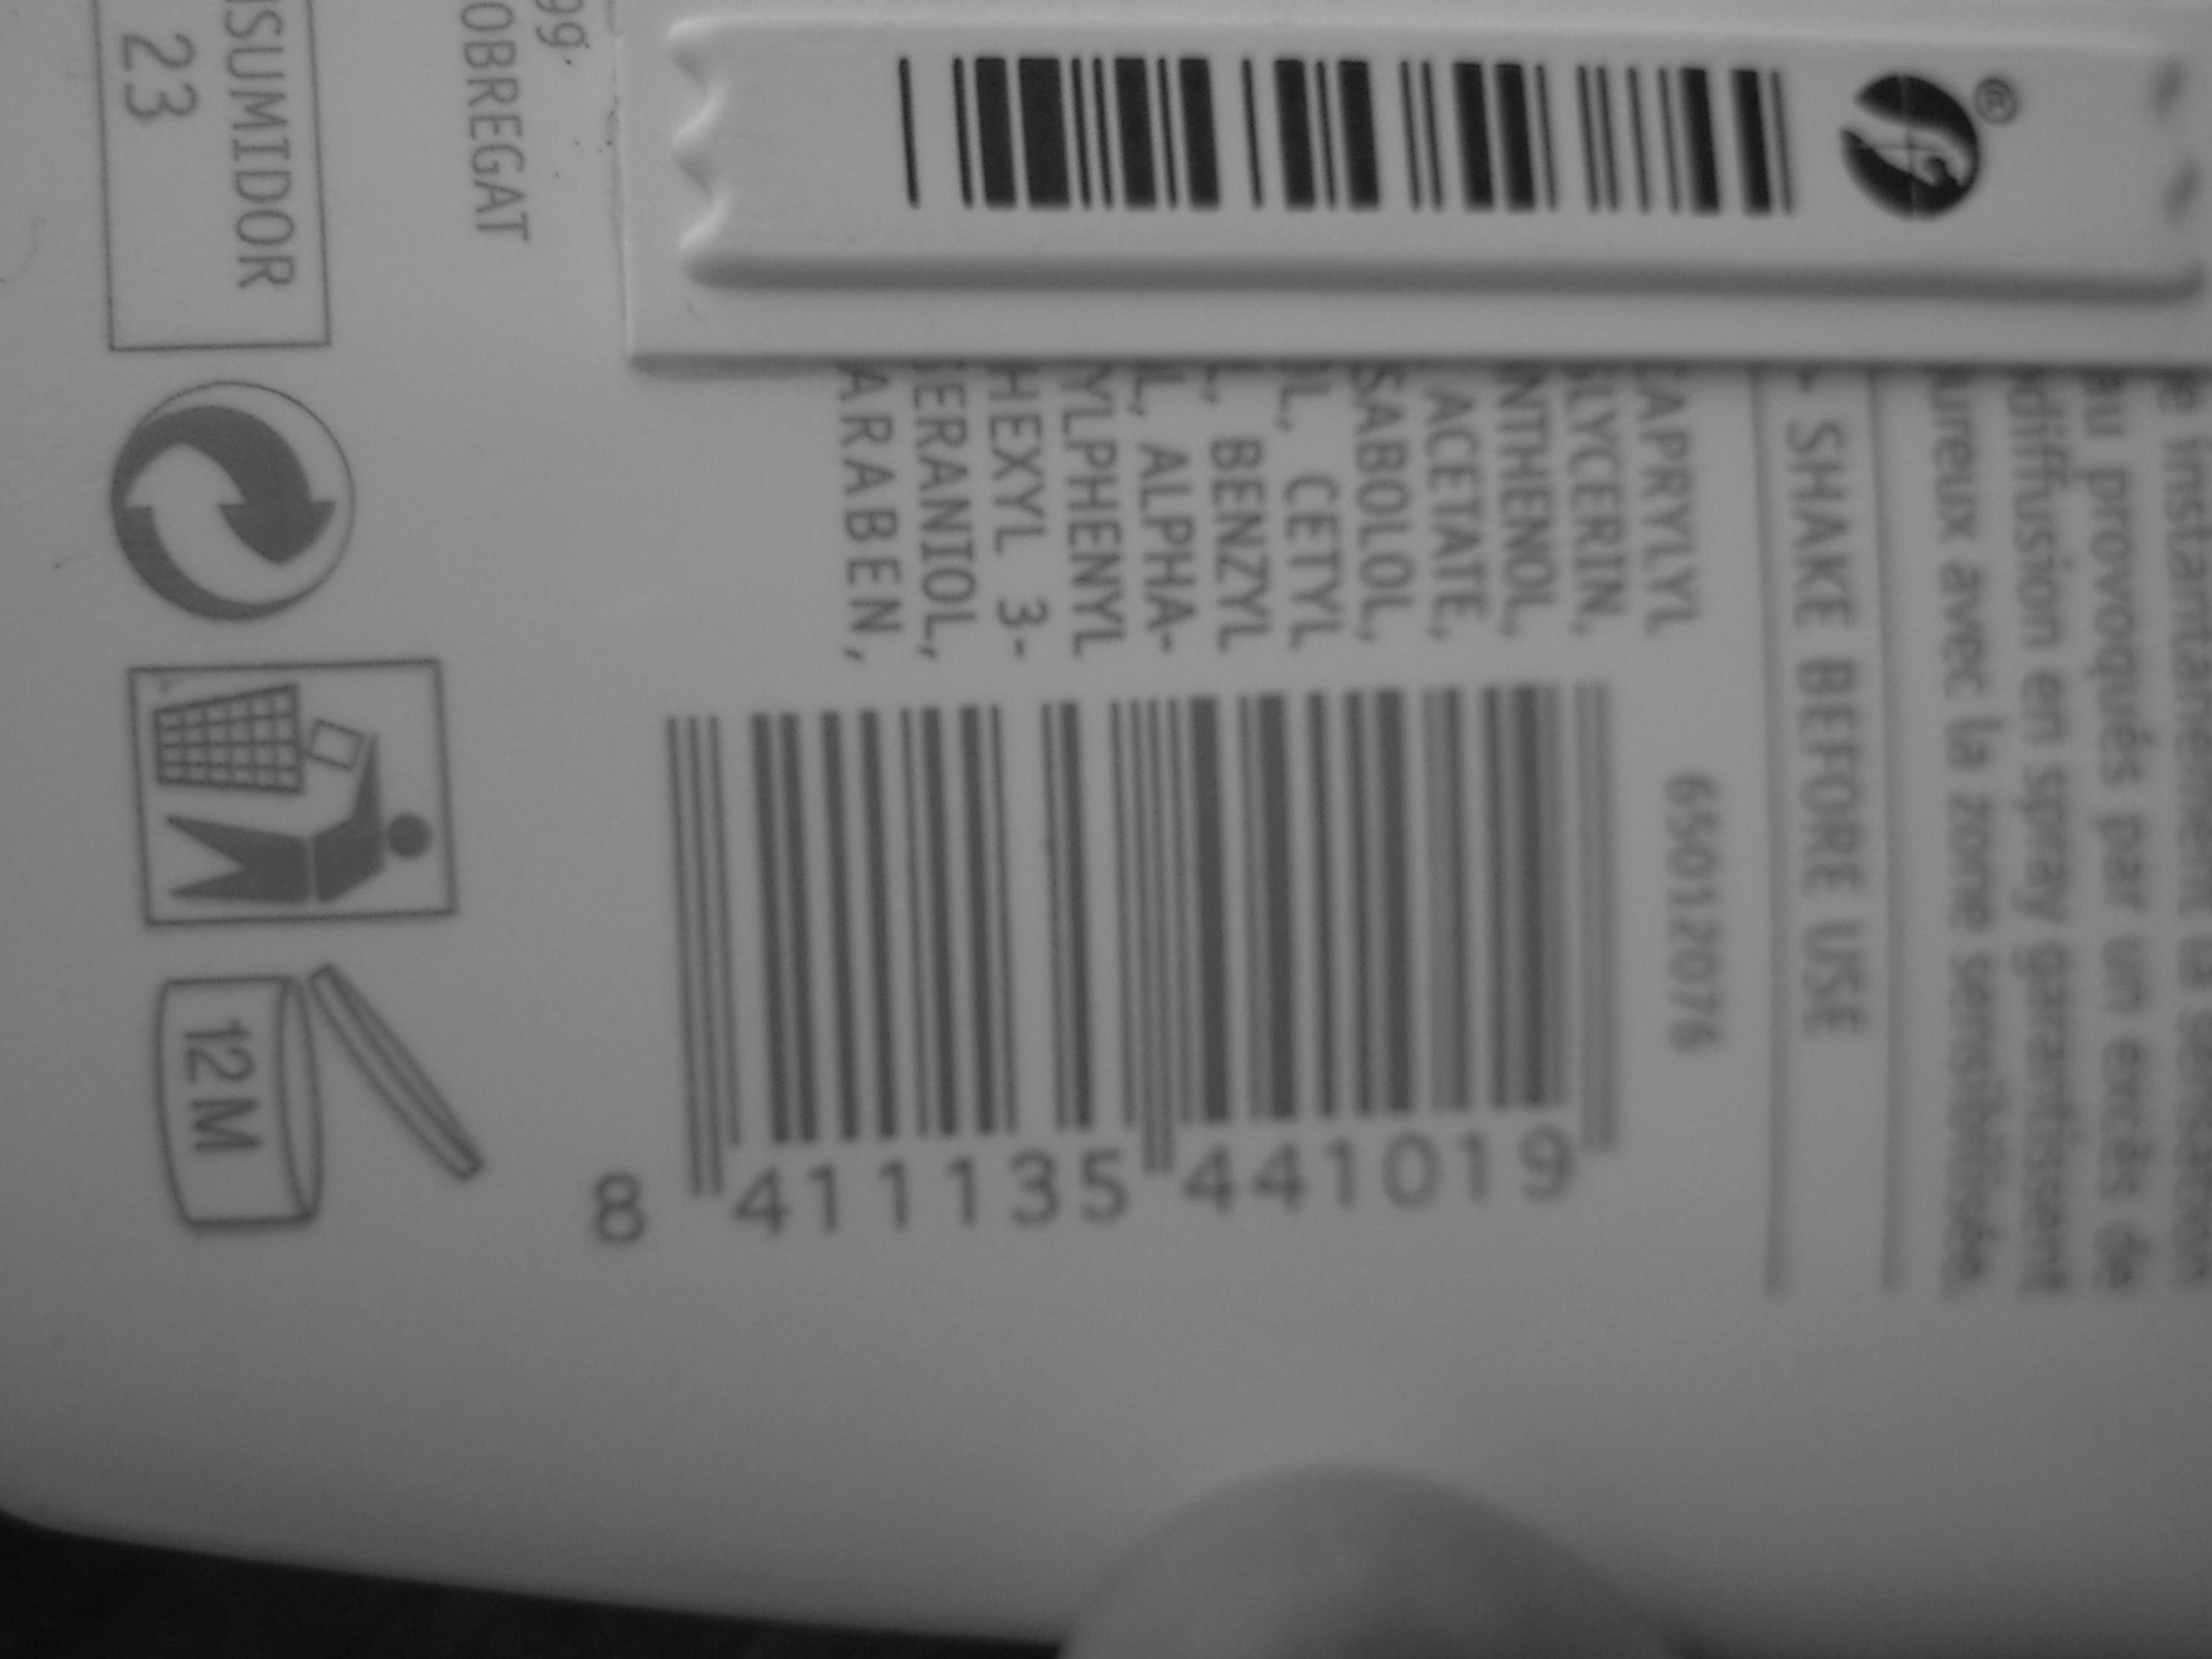Barcode: (609, 660, 1678, 1209)
